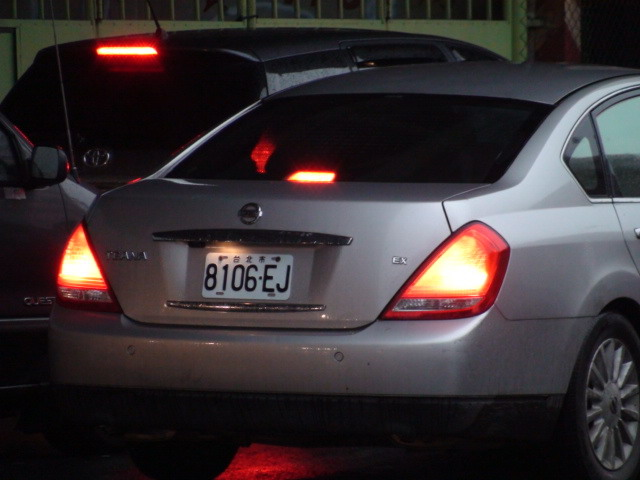plate: (198, 247, 296, 301)
